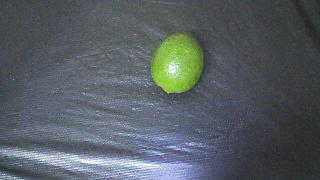LOCAL: (151, 32, 203, 93)
